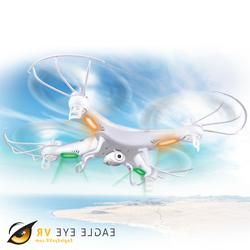drone: (3, 53, 250, 189)
